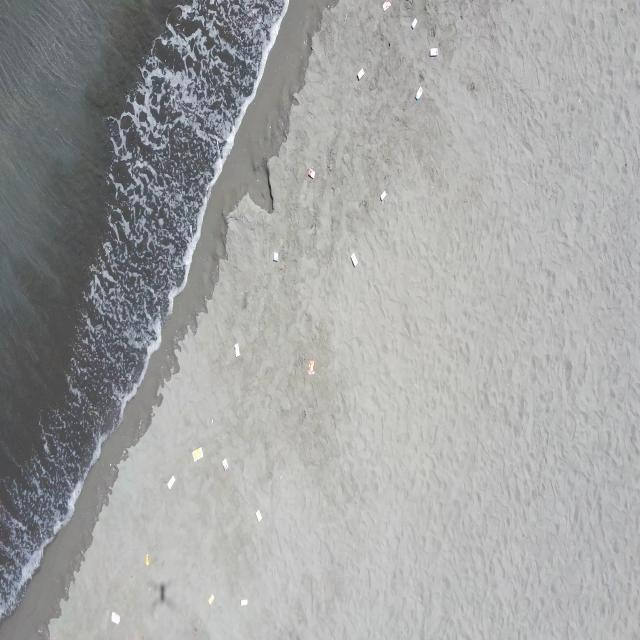Garbage: (111, 611, 120, 624), (192, 447, 201, 460), (167, 475, 175, 488), (415, 85, 422, 99), (143, 553, 150, 566), (382, 0, 390, 11), (307, 167, 315, 178), (356, 68, 364, 79), (233, 343, 239, 356), (307, 360, 313, 373), (428, 47, 437, 55), (221, 458, 227, 470), (380, 190, 387, 200), (351, 253, 356, 266), (272, 251, 278, 260), (240, 599, 247, 606), (208, 595, 213, 604), (256, 510, 260, 520), (412, 19, 416, 28)
